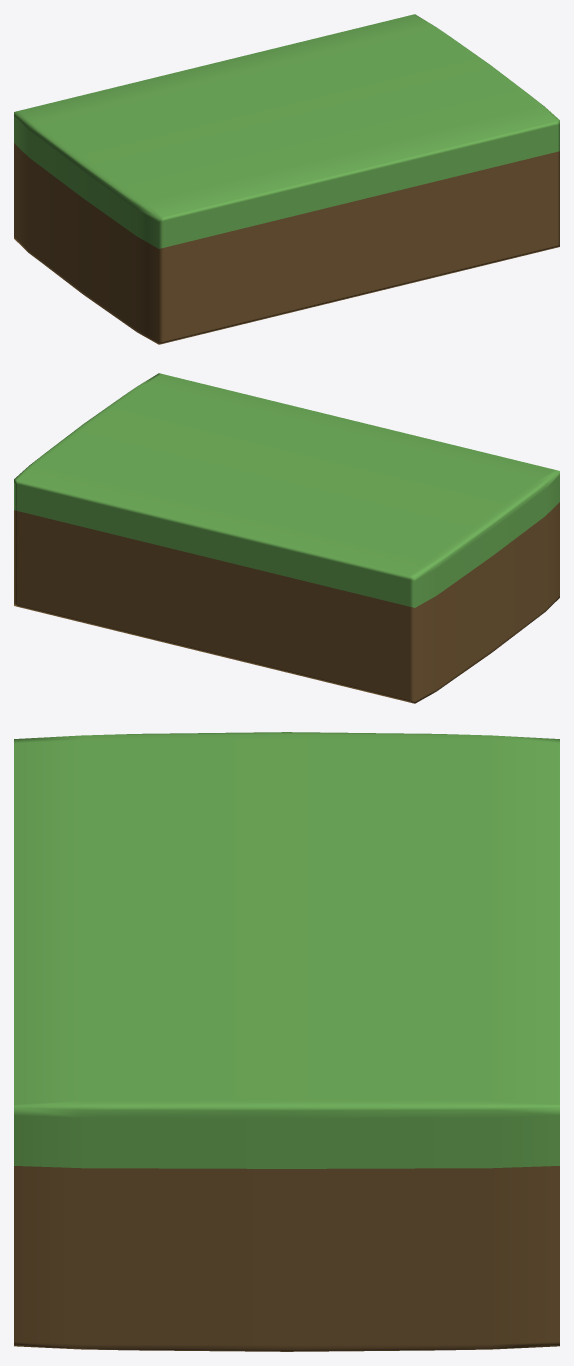
Rendered from Suelo.fbx.
3 views of the same model, one above another, from view 1: azimuth 30°, elevation 25°; view 2: azimuth 150°, elevation 25°; view 3: azimuth 270°, elevation 25° (orthographic). The views are drawn at different scales.
Visible parts, largest first — view 1: pCube1; view 2: pCube1; view 3: pCube1.
Part boxes in pixels (box(x1,y1,x2,y2)): pCube1: box(14, 14, 559, 344); pCube1: box(14, 373, 559, 703); pCube1: box(14, 732, 559, 1351).
Bounding box in the file's own units: 3.25 × 1 × 2.
